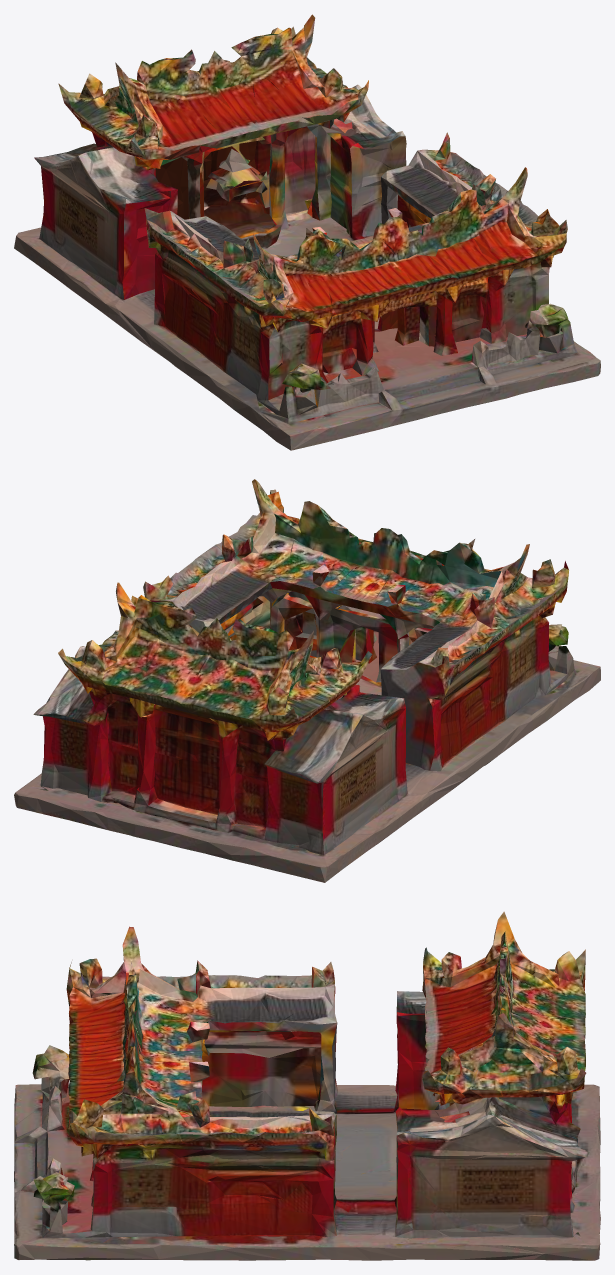
The model's file is longshan-temple.glb.
The picture shows the model from 3 angles, top to bottom: view 1: azimuth 30°, elevation 25°; view 2: azimuth 150°, elevation 25°; view 3: azimuth 270°, elevation 25°; orthographic projection. The views are drawn at different scales.
Visible parts, largest first — view 1: logan-textured.obj; view 2: logan-textured.obj; view 3: logan-textured.obj.
Part boxes in pixels (x1,y1,x2,y2): logan-textured.obj: (14,14,600,450); logan-textured.obj: (14,479,600,882); logan-textured.obj: (14,911,600,1260).
Bounding box in the file's own units: 0.6529 × 0.4099 × 1.
Materials: 1 (1 with a texture image).
